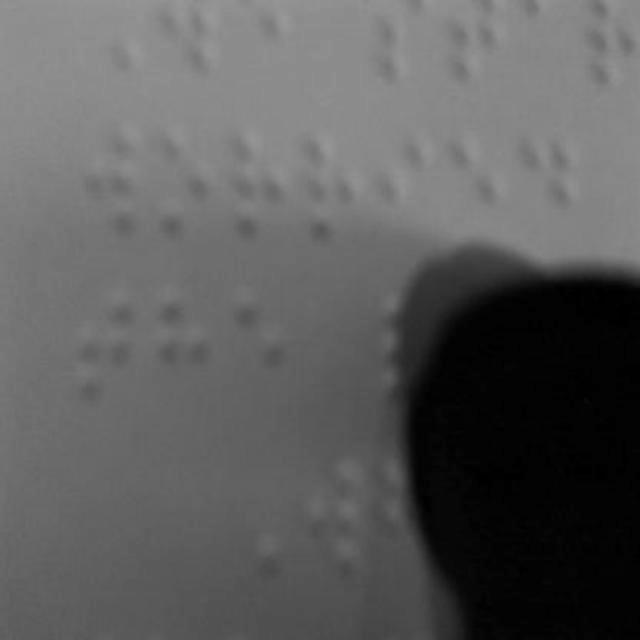braiile: (303, 438, 375, 584), (229, 282, 301, 422), (299, 120, 371, 252), (150, 283, 216, 427), (72, 279, 136, 423), (152, 120, 222, 250), (522, 122, 590, 255), (228, 121, 296, 253), (77, 114, 143, 248), (450, 119, 512, 257), (377, 122, 438, 252)
